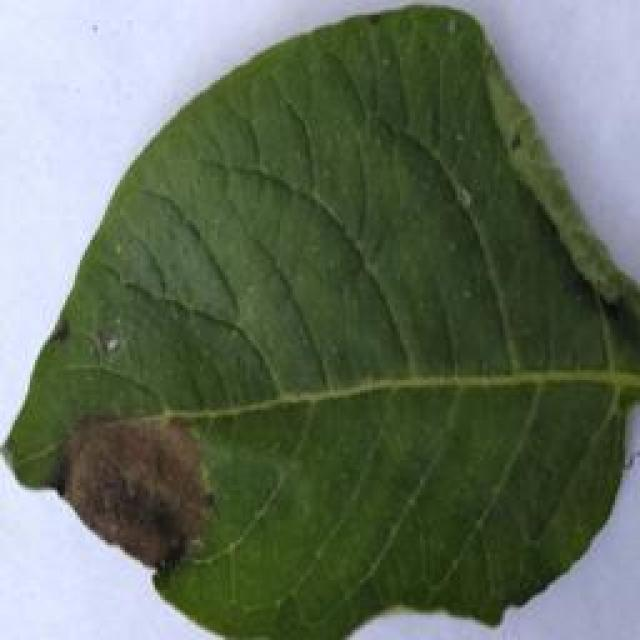Potato_Late_Blight: (0, 2, 628, 623)
